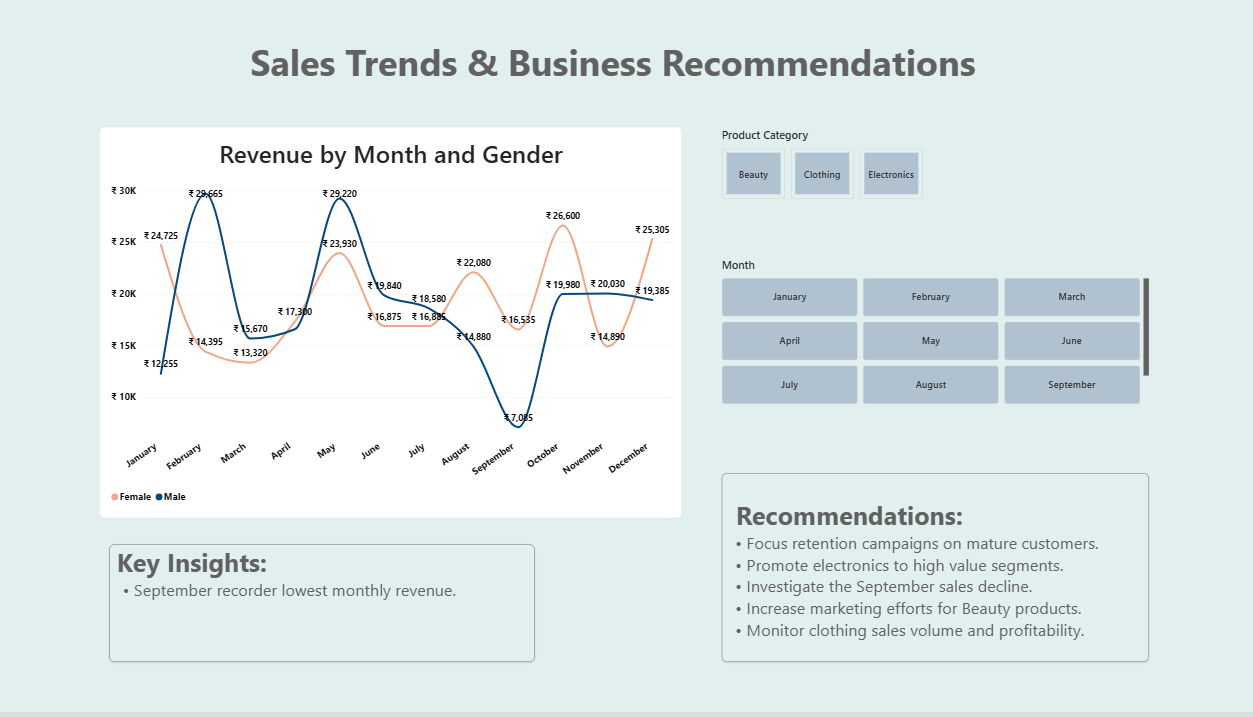

The dashboard page shown, as its layout file describes it:
{"tool":"powerbi","page":{"name":"Sales Trends & Recommendations","canvas":[1920,1080],"ordinal":3},"visuals":[{"type":"lineChart","title":"Revenue by Month and Gender","fields":{"Category":["retail_sales_dataset.Date.Variation.Date Hierarchy.Month"],"Series":["retail_sales_dataset.Gender"],"Y":["retail_sales_dataset.Total Revenue"]},"box":[164.8,213,863,579.6],"z":1},{"type":"textbox","box":[1087.5,725,632.5,280],"z":2},{"type":"advancedSlicerVisual","fields":{"Values":["retail_sales_dataset.Date.Variation.Date Hierarchy.Month"]},"box":[1087.7,404.9,633.1,220.9],"z":3},{"type":"advancedSlicerVisual","fields":{"Values":["retail_sales_dataset.Product Category"]},"box":[1087.7,213.5,300,106.7],"z":4},{"type":"textbox","box":[180,832,630,174],"z":5},{"type":"textbox","box":[345,80,1270,90],"z":6}]}

Visuals, with their boxes in screenshot pixels (x1, y1, x2, y2), scaled from the page's 1920x1080 canvas onto the 1253x717 screenshot:
"Revenue by Month and Gender" lineChart: crop(108, 141, 671, 526)
textbox: crop(710, 481, 1122, 667)
advancedSlicerVisual - retail_sales_dataset.Date.Variation.Date Hierarchy.Month: crop(710, 269, 1123, 415)
advancedSlicerVisual - retail_sales_dataset.Product Category: crop(710, 142, 906, 213)
textbox: crop(117, 552, 529, 668)
textbox: crop(225, 53, 1054, 113)
